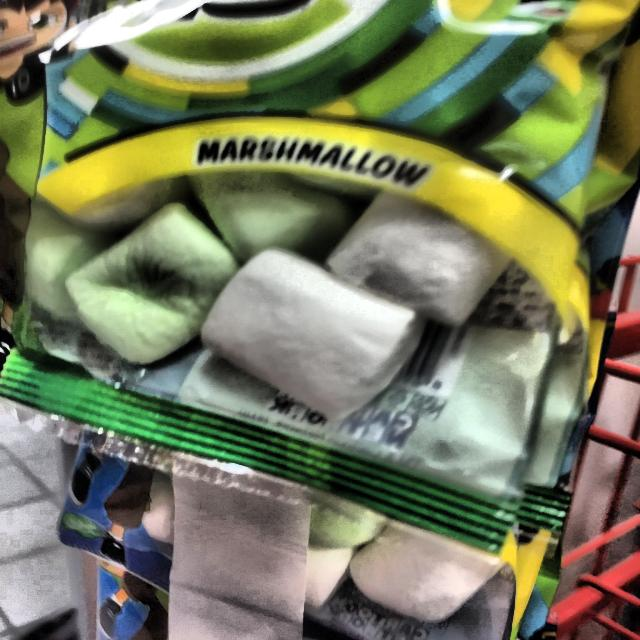Plastic: (0, 2, 640, 536)
